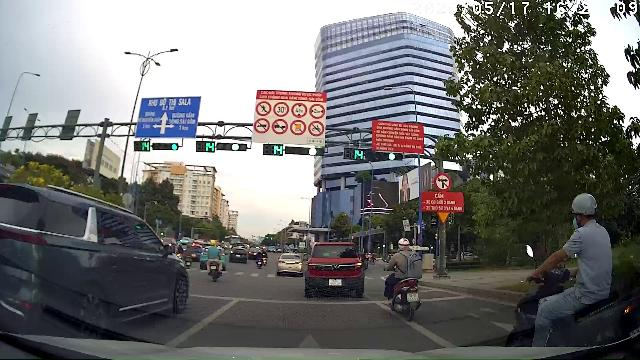137-cam-re-trai-va-re-phai: (434, 172, 452, 192)
